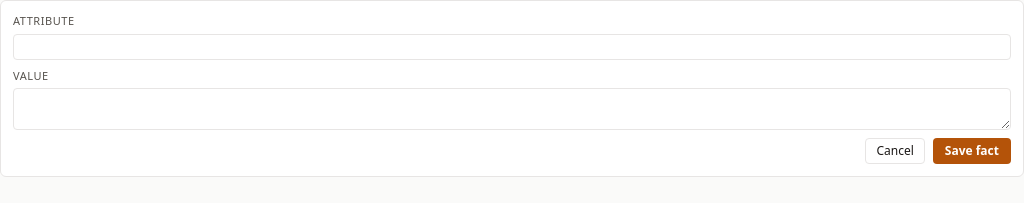
Test: FactForm ages › refuses year -1
Type "Age" into the field labelled "Attribute" at (512, 46), box left=13, top=34, right=1011, bottom=60
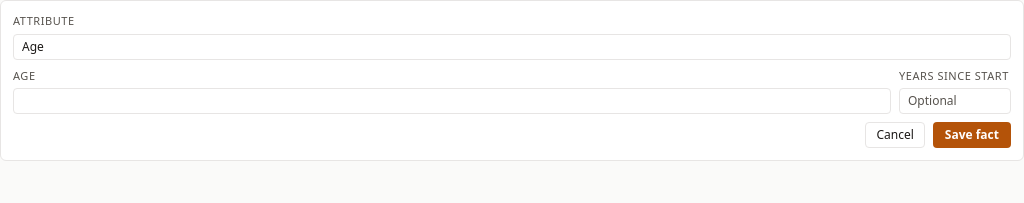
Type "18" into the field labelled "Age" at (452, 101), box left=13, top=88, right=891, bottom=114
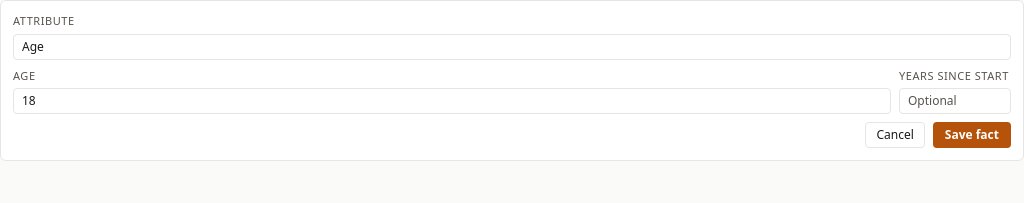
Type "-1" into the field labelled "Years since start" at (955, 101), box left=899, top=88, right=1011, bottom=114
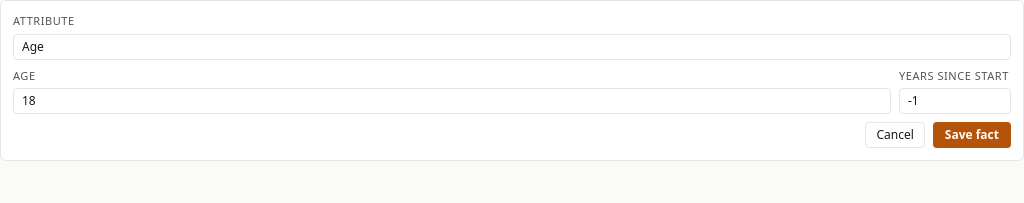
Click the button "Save fact" at (972, 135), box left=933, top=122, right=1011, bottom=148
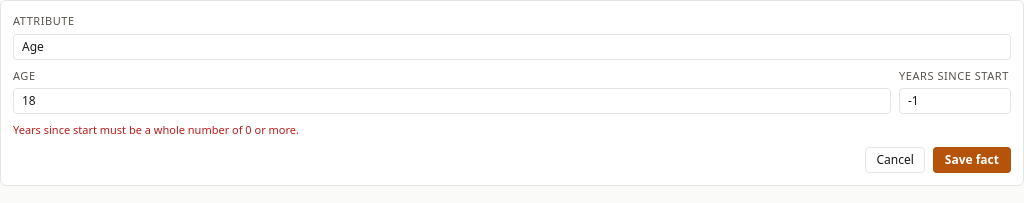
Expected: the message reads "Years since start must be a whole number of 0 or more.", left=13, top=122, right=299, bottom=137
